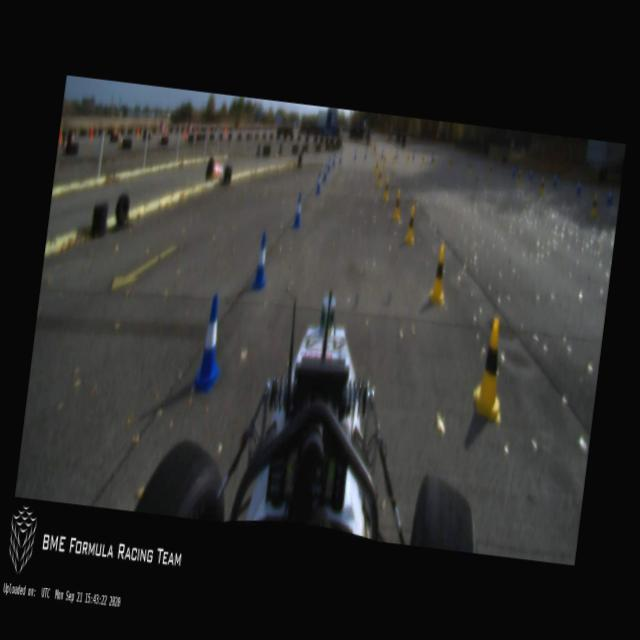blue_cone: (191, 292, 229, 393), (252, 230, 272, 290), (291, 192, 304, 228), (315, 170, 322, 194), (606, 187, 613, 206), (575, 177, 582, 196), (322, 162, 328, 182), (511, 163, 517, 181), (326, 156, 332, 172), (352, 146, 358, 162), (528, 168, 534, 182), (552, 174, 558, 186), (429, 151, 434, 164), (332, 151, 336, 166), (338, 149, 342, 164), (363, 148, 368, 160), (411, 150, 416, 162), (380, 147, 384, 160), (395, 149, 399, 159)
yellow_cone: (469, 315, 513, 425), (428, 238, 452, 306), (402, 202, 419, 246), (392, 187, 404, 220), (381, 174, 391, 202), (590, 192, 600, 218), (538, 177, 546, 196), (376, 167, 383, 186), (516, 168, 522, 185), (420, 154, 425, 171), (381, 156, 386, 172), (447, 154, 452, 170), (467, 161, 472, 174), (374, 158, 378, 174), (488, 162, 492, 178), (431, 154, 436, 166), (392, 154, 396, 168), (406, 152, 410, 165), (372, 144, 376, 156)
